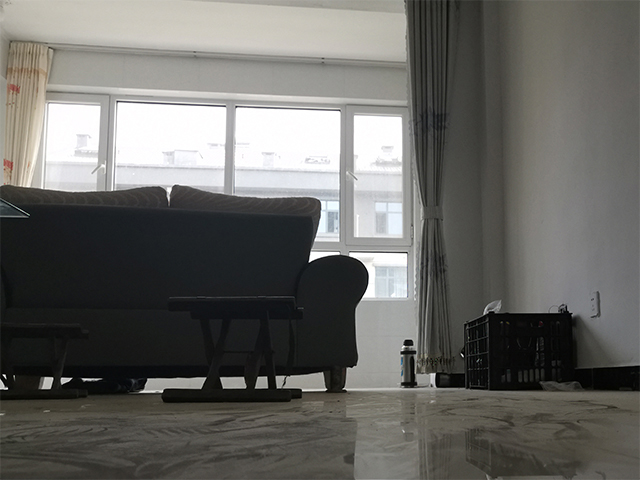curtain: (404, 1, 460, 376), (3, 37, 54, 189)
sofa: (1, 184, 370, 394)
stool: (160, 293, 306, 404), (1, 321, 91, 399)
